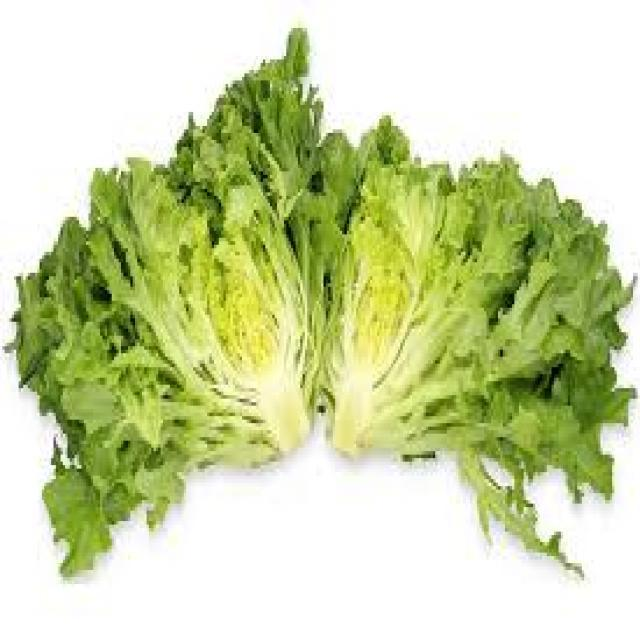Lettuce: (2, 24, 640, 582)
